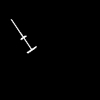double_crochet: (12, 20, 35, 52)
